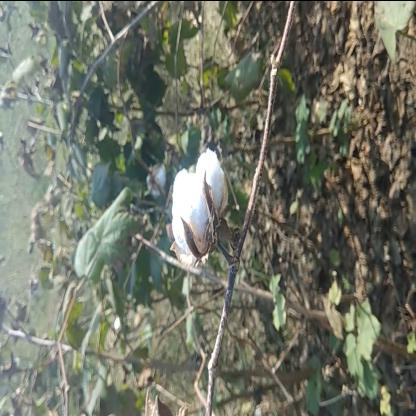cotton_ready: (161, 122, 251, 290)
